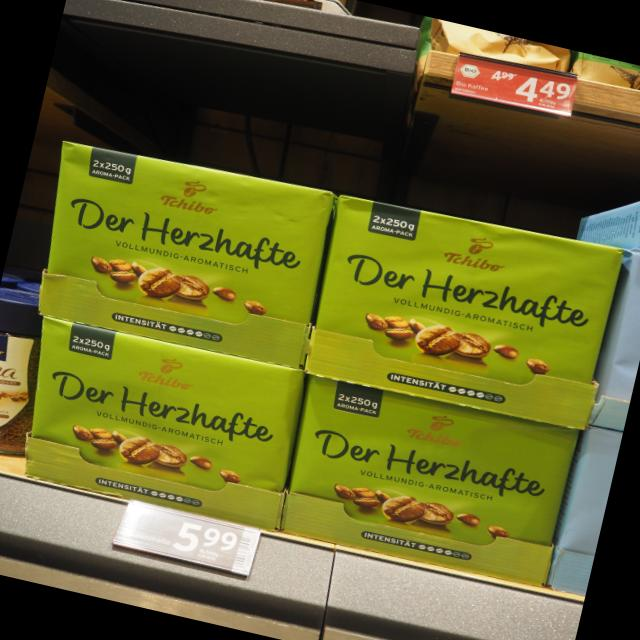Herzhatfe Mundig: (304, 192, 627, 435), (35, 137, 340, 370), (282, 374, 581, 588), (22, 315, 308, 534)
